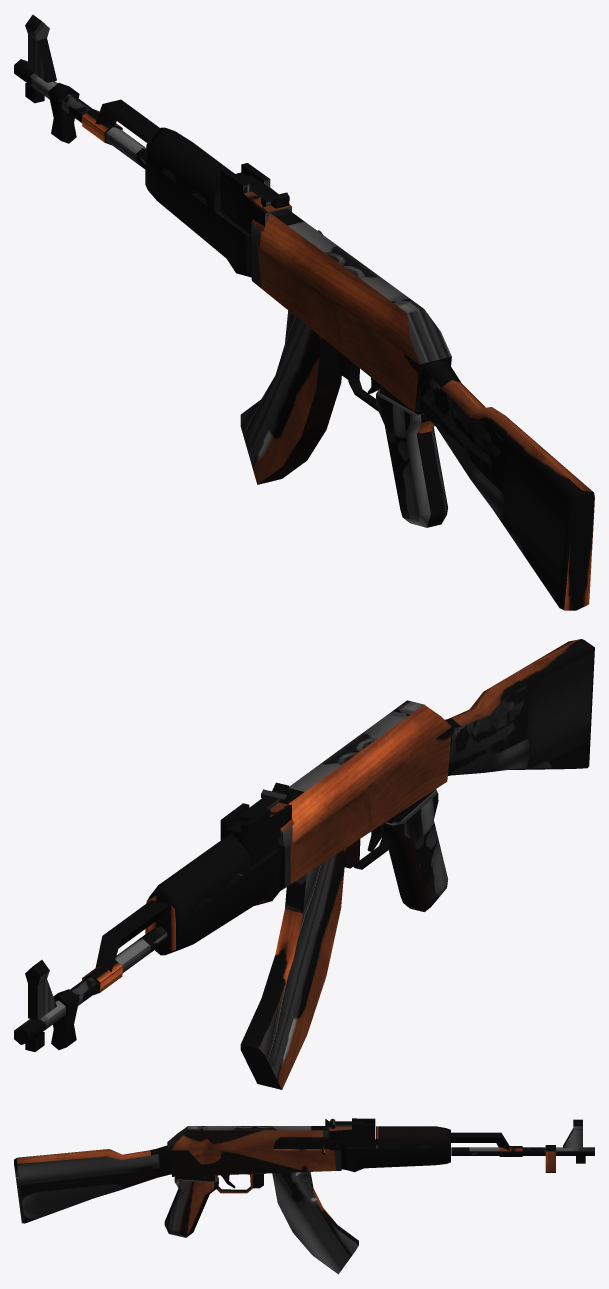
3 renders of one model, top to bottom at view 1: azimuth 30°, elevation 25°; view 2: azimuth 150°, elevation 25°; view 3: azimuth 270°, elevation 25°, orthographic. The views are drawn at different scales.
Parts seen in each view (by area): view 1: AK47_LP; view 2: AK47_LP; view 3: AK47_LP.
Boxes of the visible parts, x1,y1,x2,y2 form: AK47_LP: (14,14,594,610); AK47_LP: (14,639,594,1089); AK47_LP: (14,1118,594,1274).
Bounding box in the file's own units: 0.0355 × 0.6088 × 0.1754.
